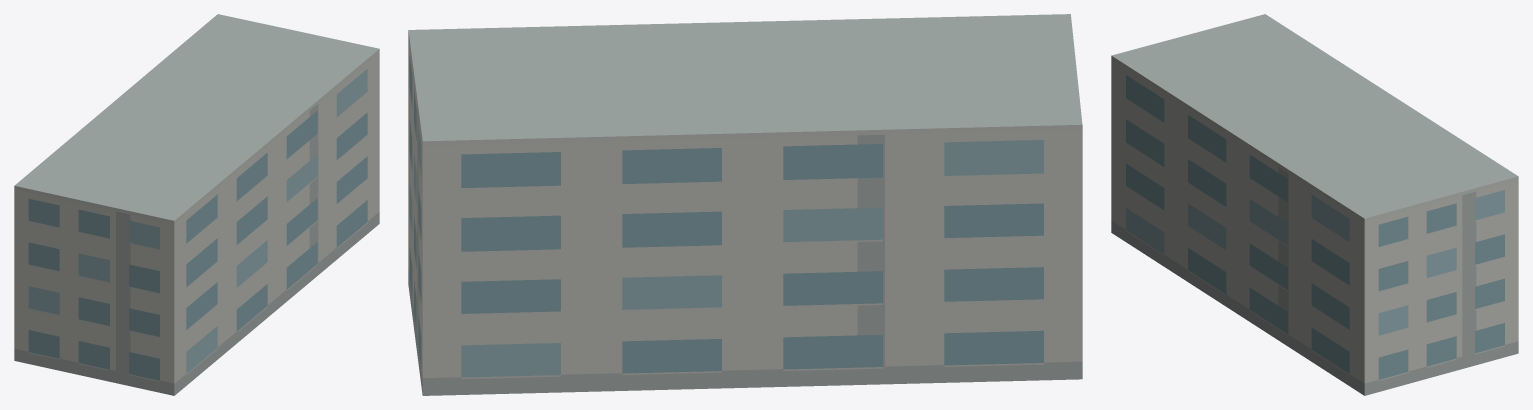
File: residential-3526a4ae-e75c-4a02-a101-b1f9d7a42113.glb
3 renders of one model, left to right at view 1: azimuth 30°, elevation 25°; view 2: azimuth 150°, elevation 25°; view 3: azimuth 270°, elevation 25°, orthographic. The views are drawn at different scales.
Visible parts, largest first — view 1: residential-3526a4ae-e75c-4a02-a101-b1f9d7a42113.tmp; view 2: residential-3526a4ae-e75c-4a02-a101-b1f9d7a42113.tmp; view 3: residential-3526a4ae-e75c-4a02-a101-b1f9d7a42113.tmp.
Part boxes in pixels (x1,y1,x2,y2): residential-3526a4ae-e75c-4a02-a101-b1f9d7a42113.tmp: (14, 14, 379, 395); residential-3526a4ae-e75c-4a02-a101-b1f9d7a42113.tmp: (408, 14, 1082, 395); residential-3526a4ae-e75c-4a02-a101-b1f9d7a42113.tmp: (1111, 14, 1518, 395).
Size of the model in its own units: 30.6 by 12.35 by 25.72.
